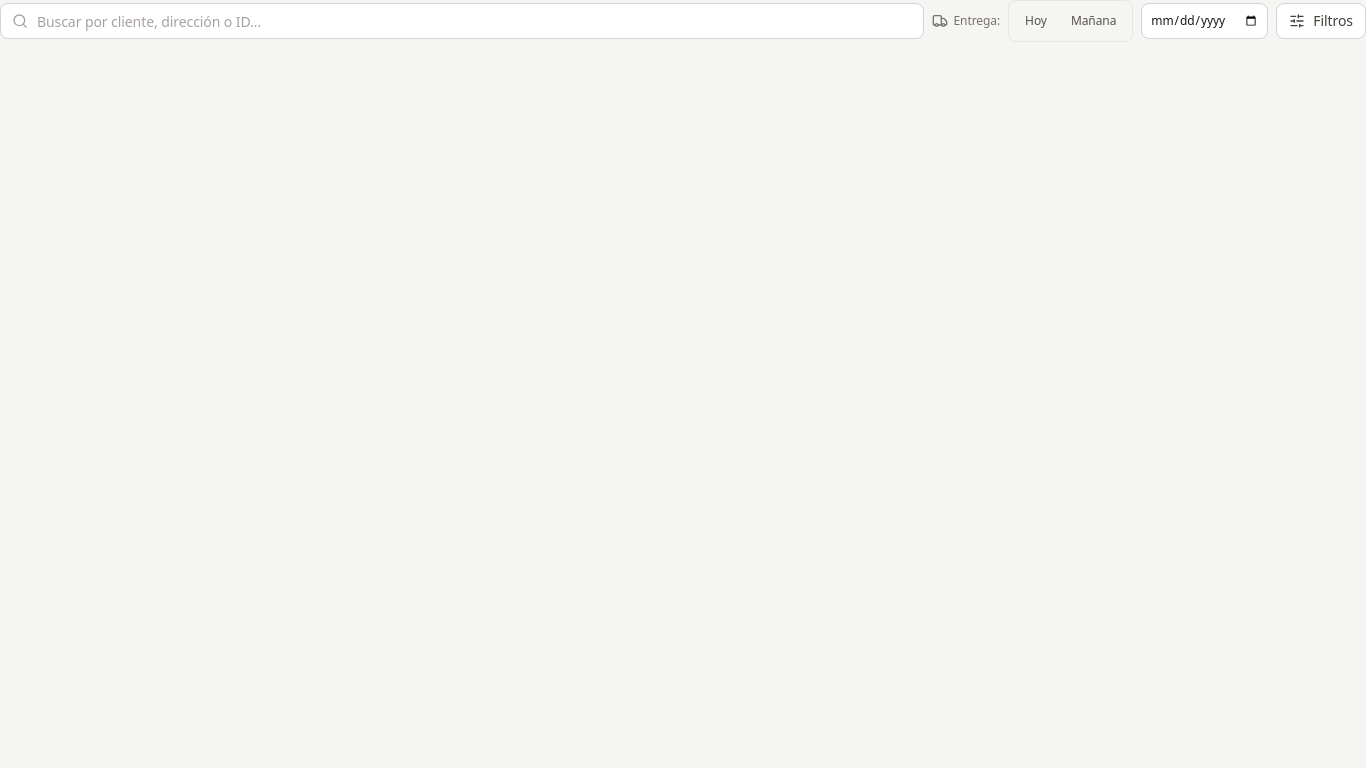
PedidoFilters — en escritorio el MISMO trigger abre un popover › adentro está el mismo panel: mismas secciones y cada control una vez
Click the button with aria-label "Abrir filtros avanzados".
click(1321, 21)  # box [1276,3,1365,39]
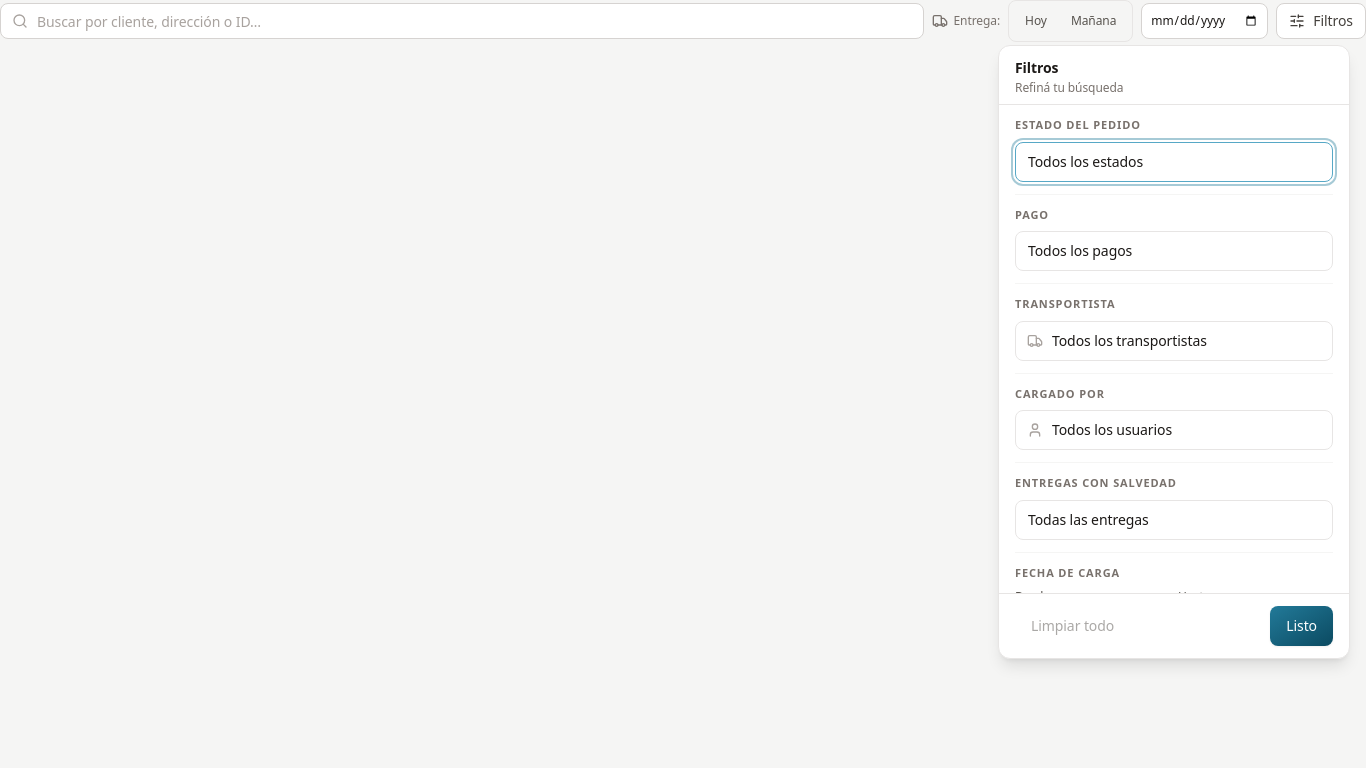
Check: the text "Estado del pedido" is shown, box [1015,117,1141,132]
Check: the text "Pago" is shown, box [1015,206,1049,222]
Check: the text "Transportista" is shown, box [1015,296,1116,311]
